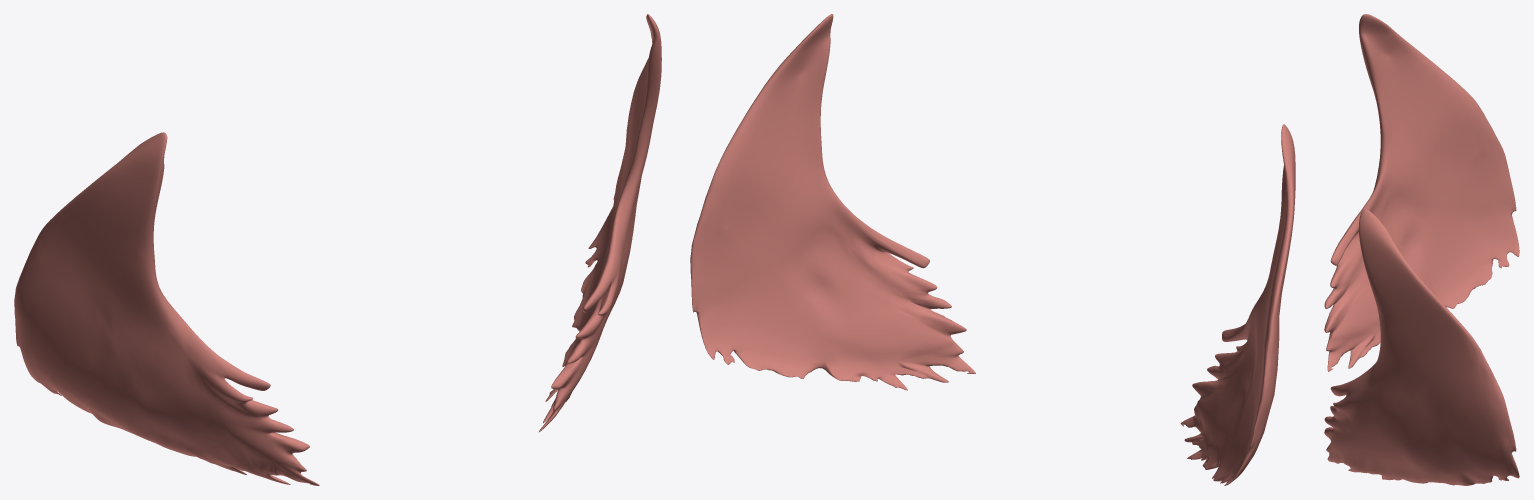
Rendered from dao.glb.
3 views of the same model, side by side, from view 1: azimuth 30°, elevation 25°; view 2: azimuth 150°, elevation 25°; view 3: azimuth 270°, elevation 25° (orthographic). The views are drawn at different scales.
Parts seen in each view (by area): view 1: dao_R, dao_L; view 2: dao_L, dao_R; view 3: dao_R, dao_L.
Part boxes in pixels (bbox=[...]): dao_R: bbox=[14, 132, 319, 485]; dao_L: bbox=[539, 14, 661, 431]; dao_L: bbox=[690, 14, 975, 390]; dao_R: bbox=[1180, 124, 1295, 485]; dao_R: bbox=[1324, 14, 1519, 371]; dao_L: bbox=[1324, 209, 1519, 485].
Size of the model in its own units: 0.0744 by 0.043 by 0.0247.
